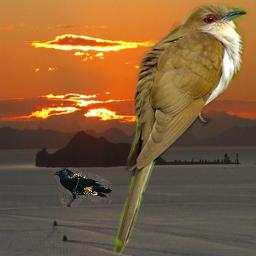Crow: (51, 167, 112, 207)
Cuckoo: (112, 3, 249, 256)
